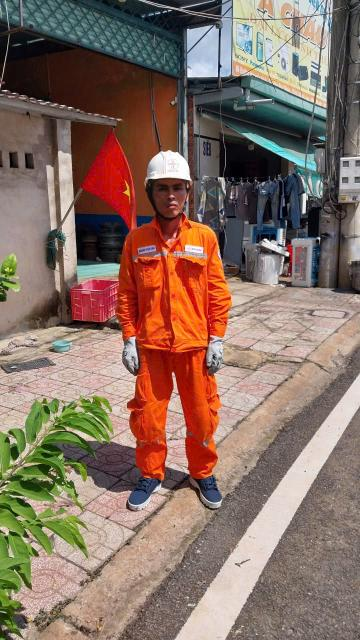gloves: (115, 335, 150, 377), (204, 337, 228, 373)
helmet: (138, 151, 202, 183)
shoes: (187, 468, 227, 508), (122, 475, 164, 509)
